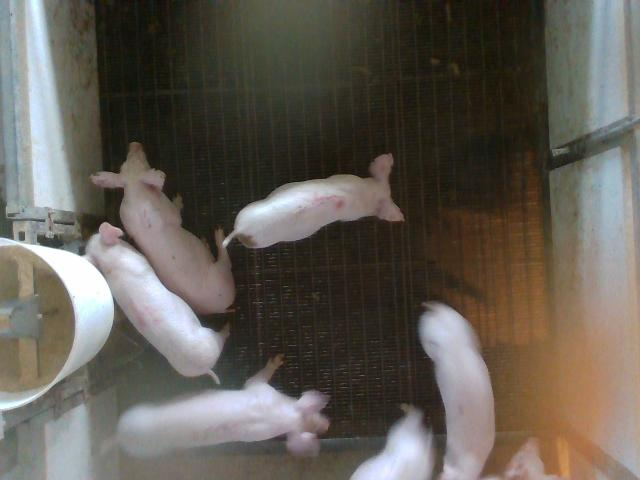pig-3: (119, 355, 329, 457)
pig-4: (86, 224, 229, 381)
pig-5: (222, 156, 403, 248)
